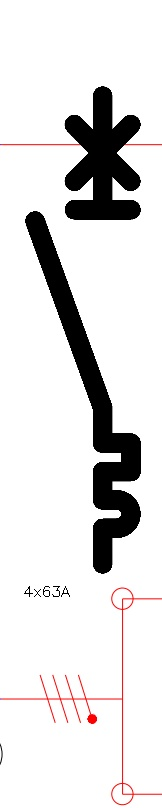interruptor_termomagnetico: (23, 84, 143, 576)
